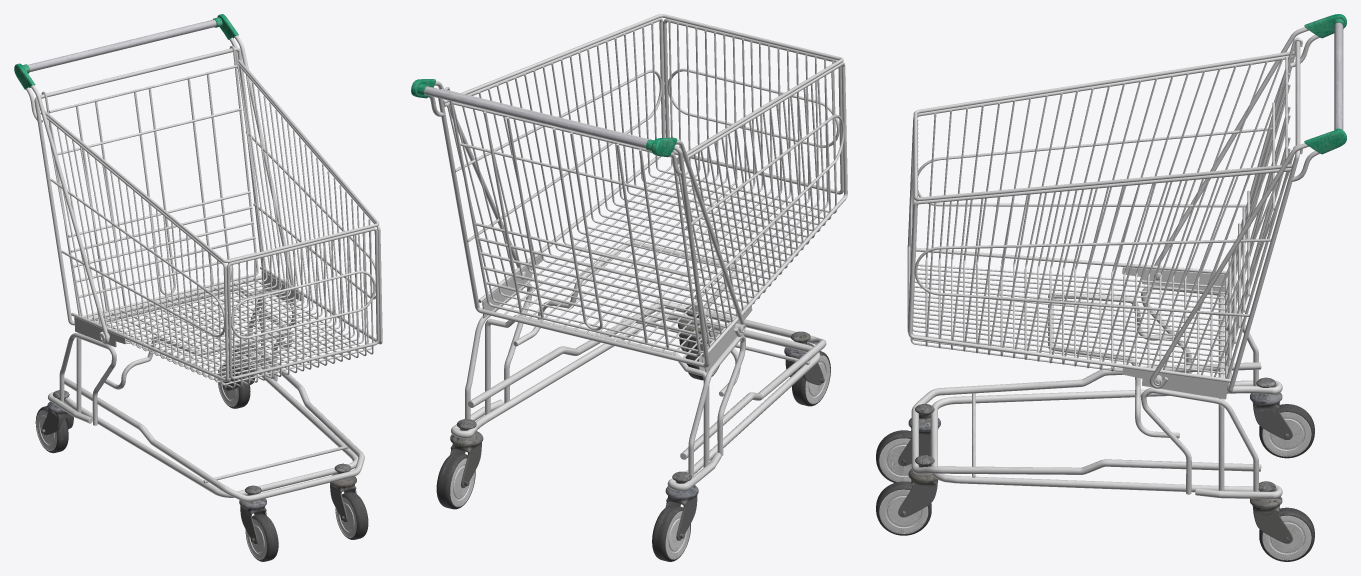
Rendered from trolley.glb.
The picture shows the model from 3 angles, left to right: view 1: azimuth 30°, elevation 25°; view 2: azimuth 150°, elevation 25°; view 3: azimuth 270°, elevation 25°; orthographic projection. The views are drawn at different scales.
Parts seen in each view (by area): view 1: Basket_A, Basket_B; view 2: Basket_A, Basket_B; view 3: Basket_A, Basket_B.
Part boxes in pixels (x1=…): Basket_A: x1=34, y1=47, x2=382, y2=561; Basket_B: x1=14, y1=14, x2=373, y2=501; Basket_A: x1=436, y1=14, x2=847, y2=561; Basket_B: x1=411, y1=21, x2=836, y2=540; Basket_A: x1=876, y1=37, x2=1314, y2=561; Basket_B: x1=911, y1=14, x2=1346, y2=531.
Size of the model in its own units: 60.55 by 103 by 101.
Materials: 1 (1 with a texture image).
